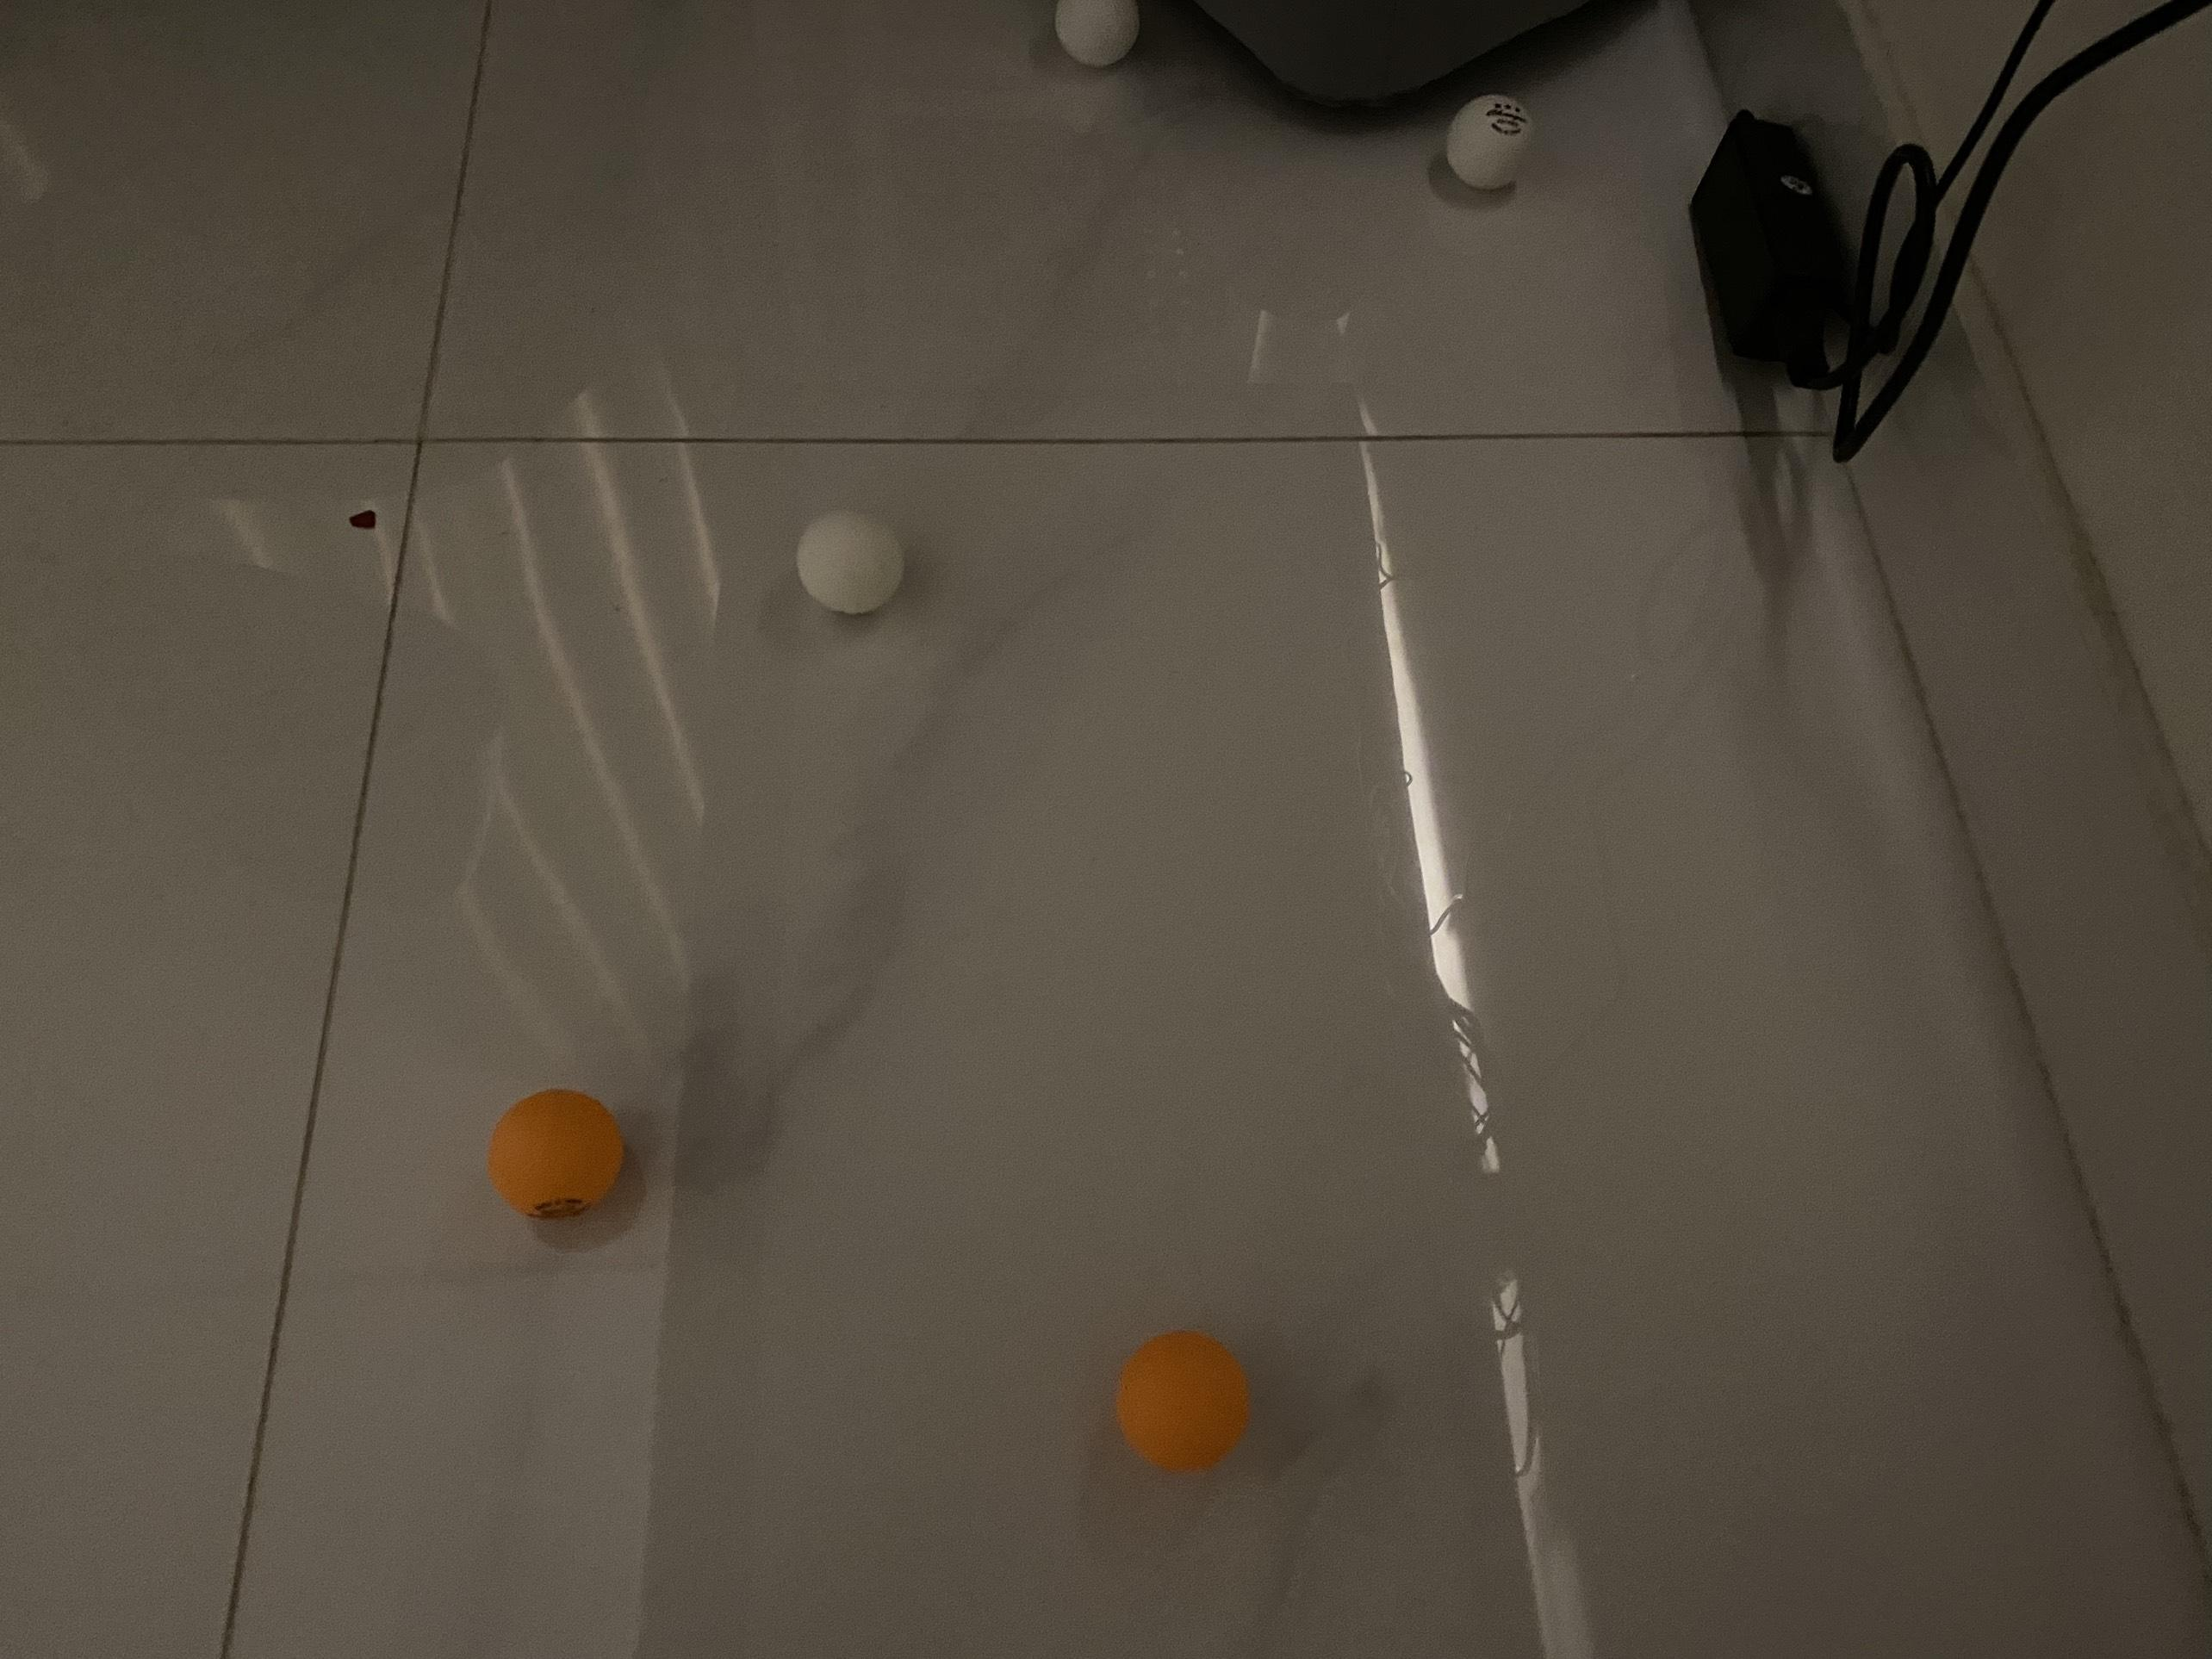oball: (1118, 1324, 1256, 1473), (491, 1087, 625, 1222)
